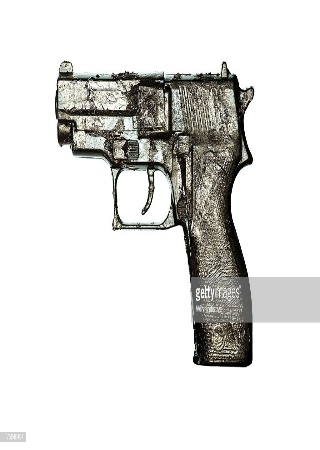handgun: (52, 53, 259, 369)
